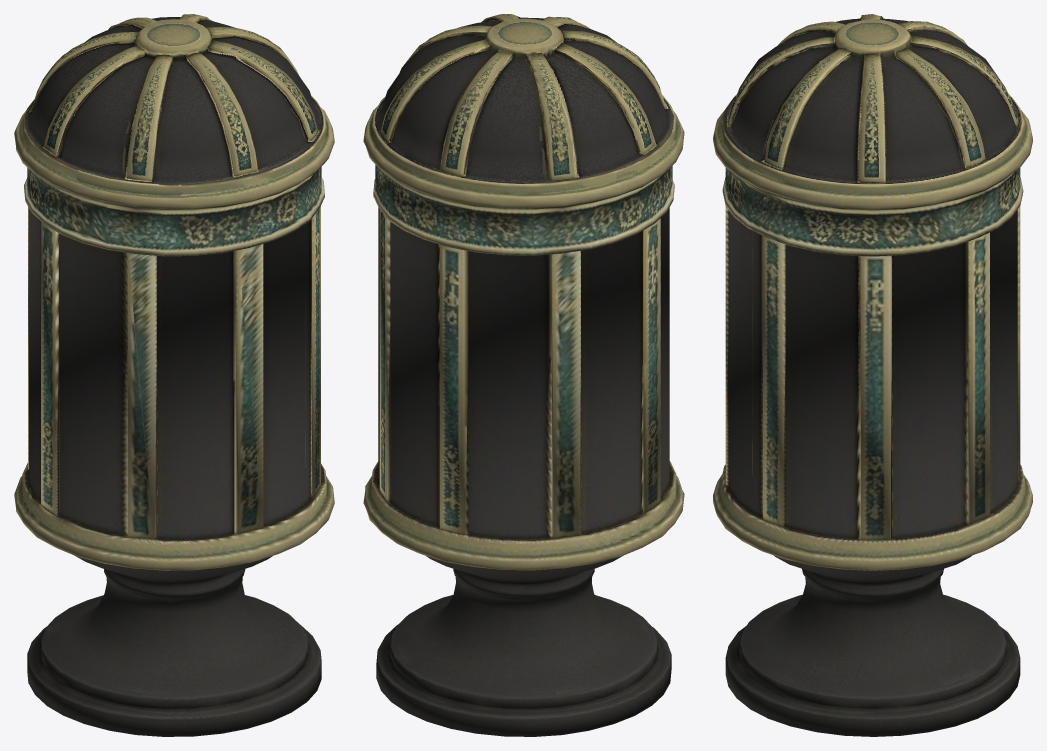
Rendered from tripo_convert_45459f4d-1251-4a44-b5be-690fbc1b60b4.fbx.
3 views of the same model, side by side, from view 1: azimuth 30°, elevation 25°; view 2: azimuth 150°, elevation 25°; view 3: azimuth 270°, elevation 25° (orthographic).
Visible parts, largest first — view 1: tripo_node_45459f4d; view 2: tripo_node_45459f4d; view 3: tripo_node_45459f4d.
Part boxes in pixels (x1,y1,x2,y2): tripo_node_45459f4d: (14, 14, 334, 736); tripo_node_45459f4d: (363, 14, 684, 736); tripo_node_45459f4d: (713, 14, 1032, 736).
Bounding box in the file's own units: 0.4512 × 0.998 × 0.4512.
Materials: 1 (1 with a texture image).
